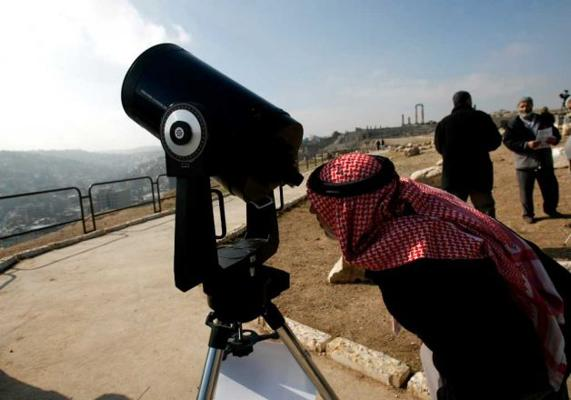person: (307, 151, 569, 400)
